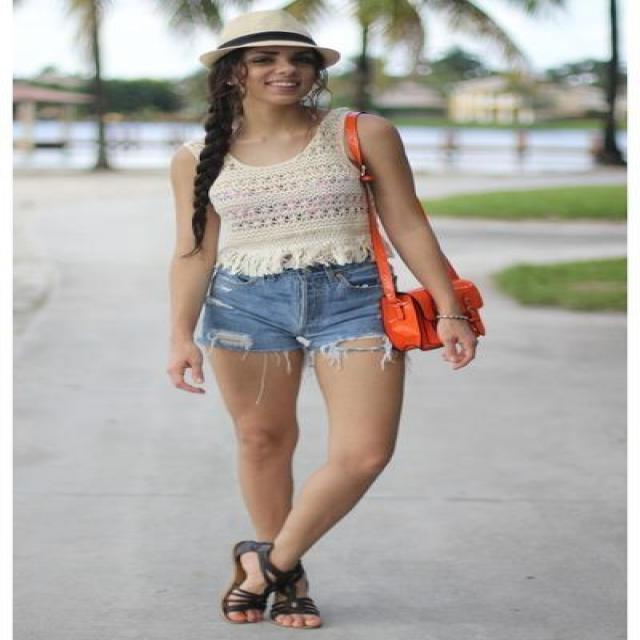bag: (365, 243, 483, 350)
hat: (221, 32, 315, 63)
shirt: (210, 107, 390, 276)
shoe: (234, 541, 307, 597)
shorts: (189, 257, 384, 351)
